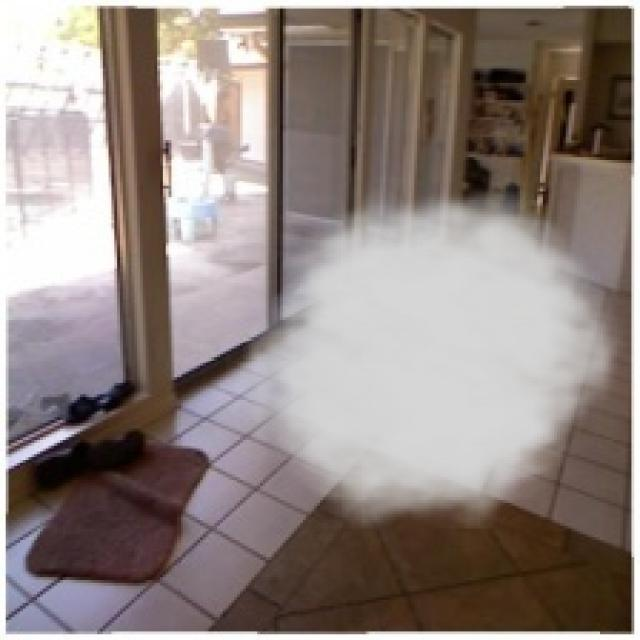Smoke: (226, 174, 634, 529)
